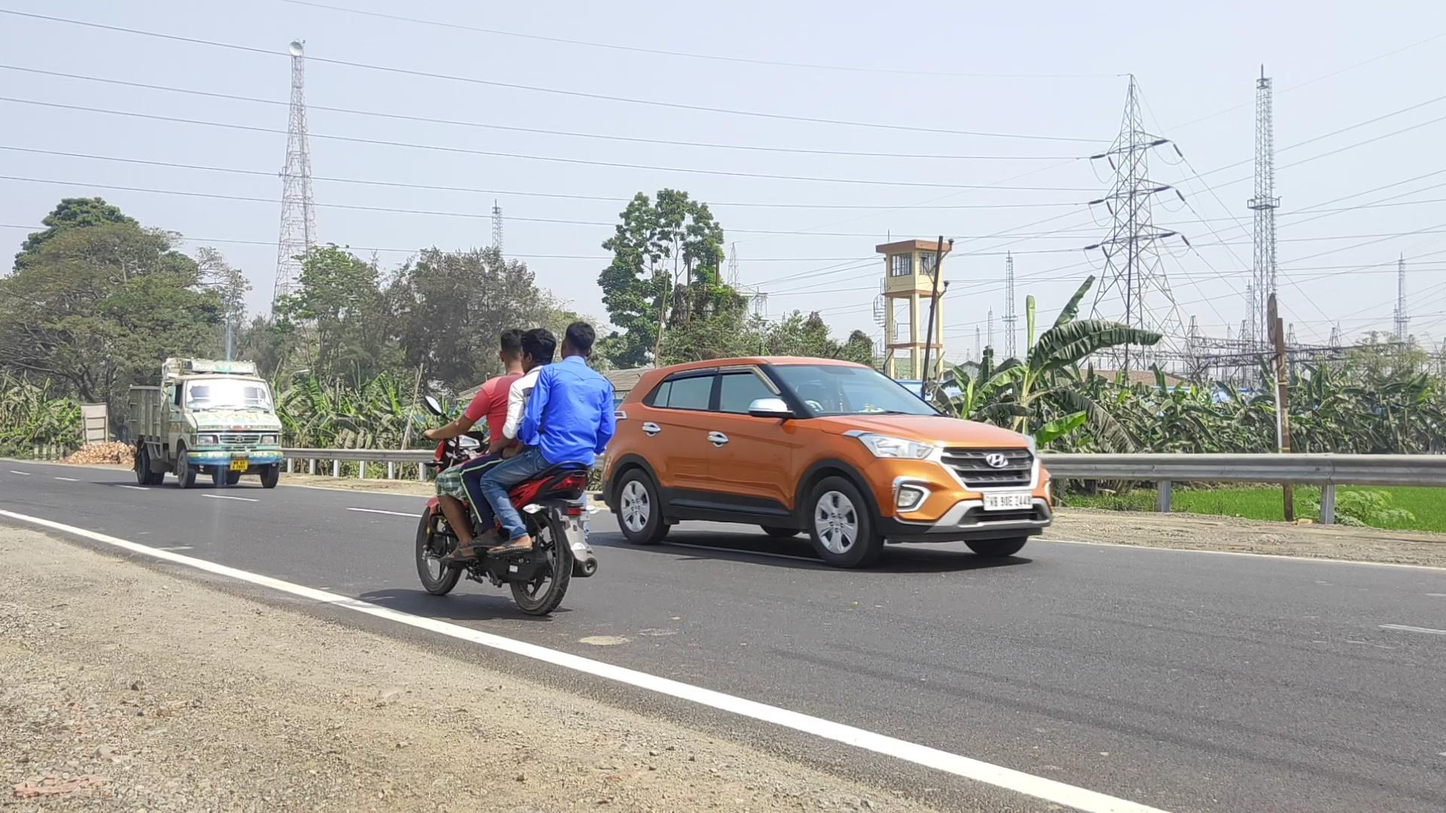bike: (415, 321, 613, 615)
car: (592, 355, 1054, 568)
truck: (130, 358, 284, 488)
